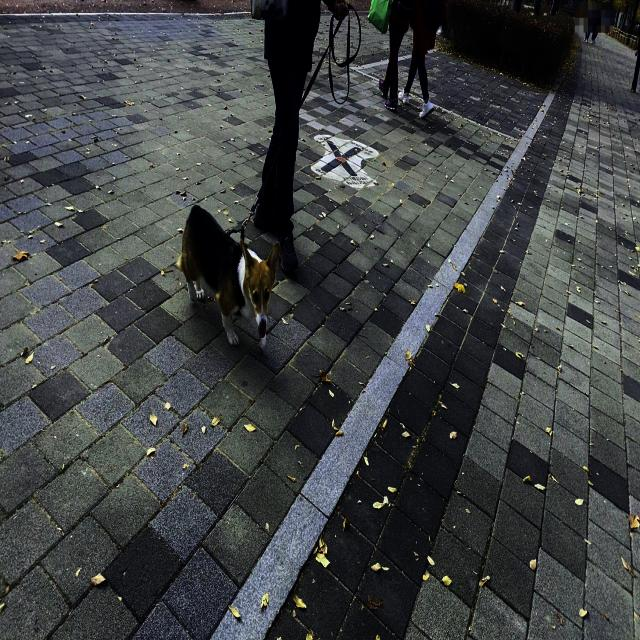Leashed_Dog: (176, 100, 291, 352)
